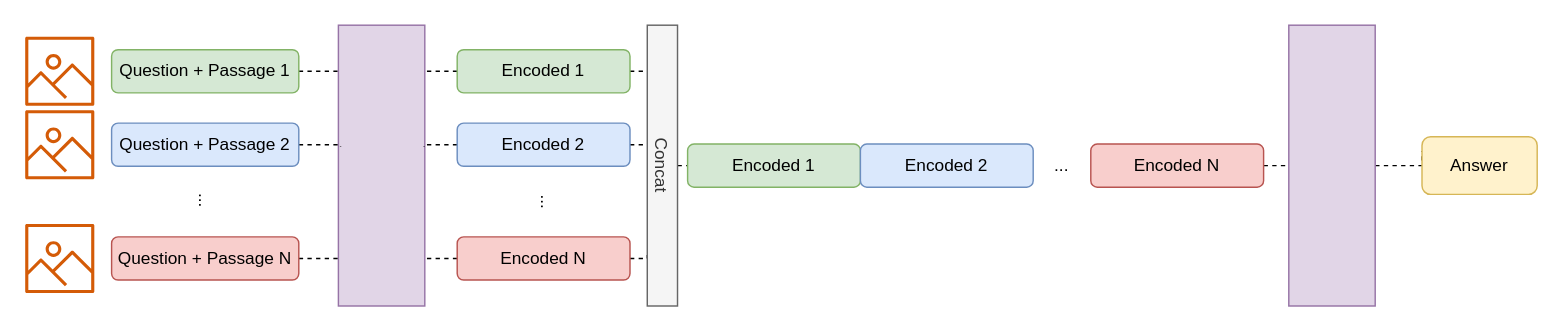
The diagram is 1562 pixels wide and 331 high, and some of its shapes have lost their labels. Each missing label, with the centre of its shape:
Decoder: point 1331,165
Encoder: point 381,165
